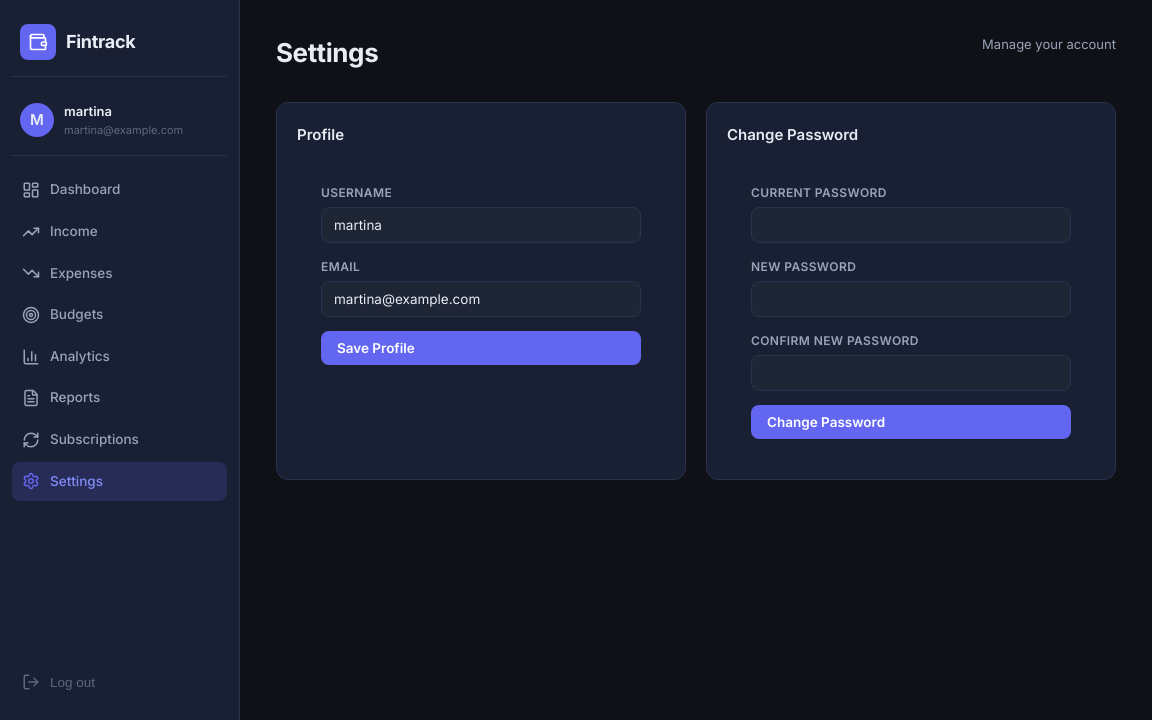
Test: password › catches mismatching passwords without contacting the server
The width and height of the screenshot is (1152, 720).
Check: the field below "Username" holds "martina", box [321,207,641,243]
In the password field below "Current Password": (911, 225) [751,207,1071,243], type "old-pw"
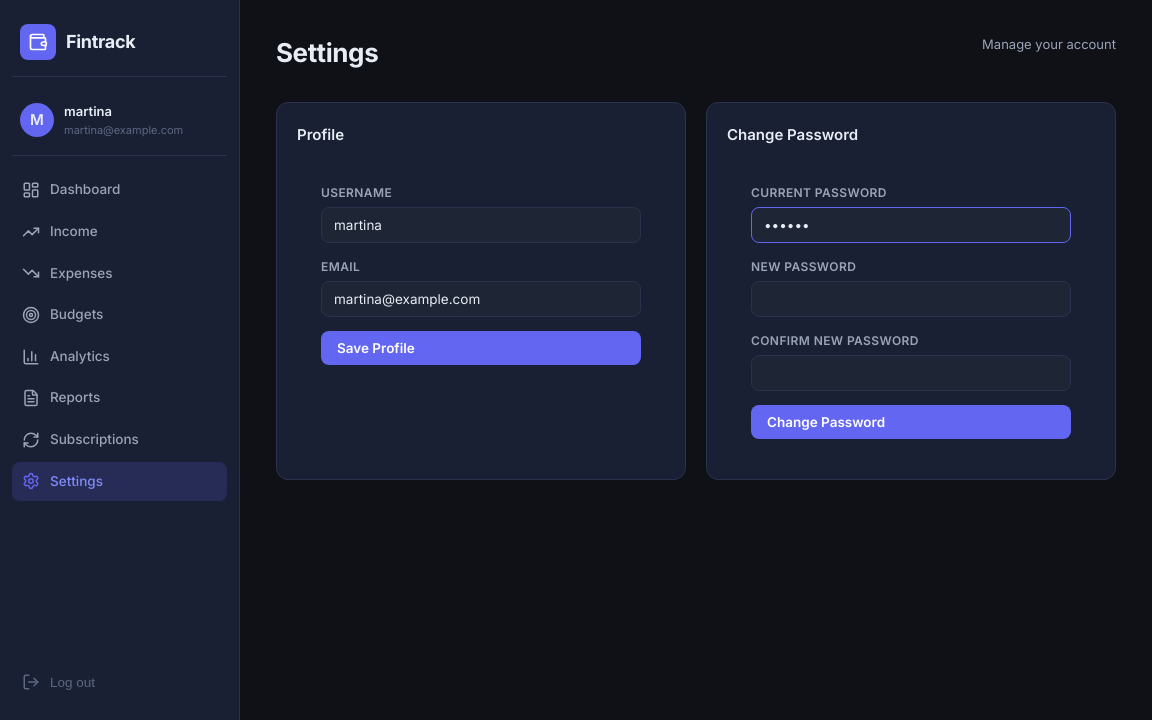
In the 2nd password field: (911, 299) [751,281,1071,317], type "new-pw-1"
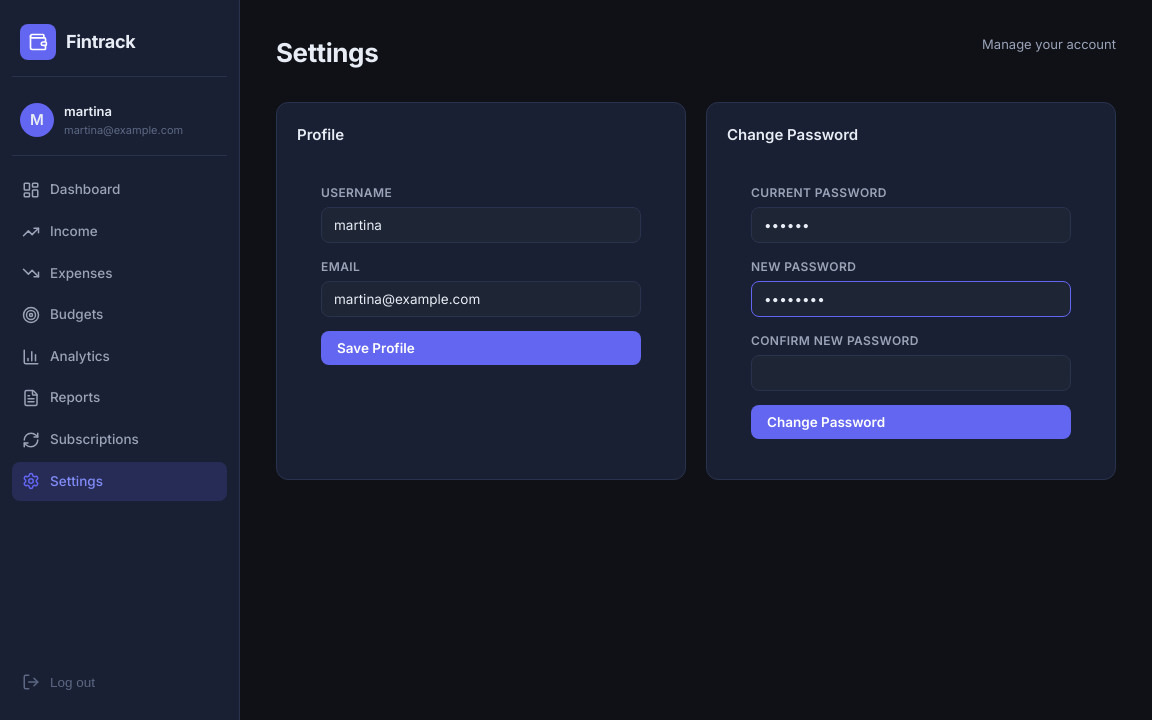
In the password field below "Confirm New Password": (911, 373) [751,355,1071,391], type "new-pw-2"
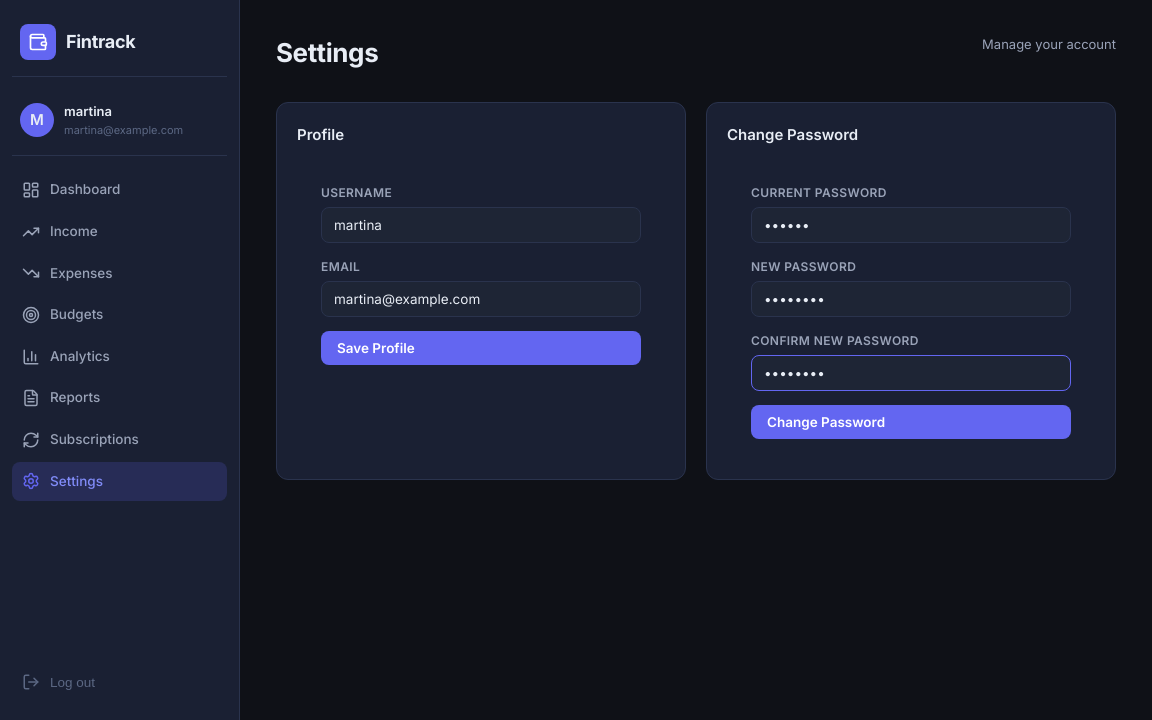
Click the button "Change Password": (826, 422) [751,405,1071,439]
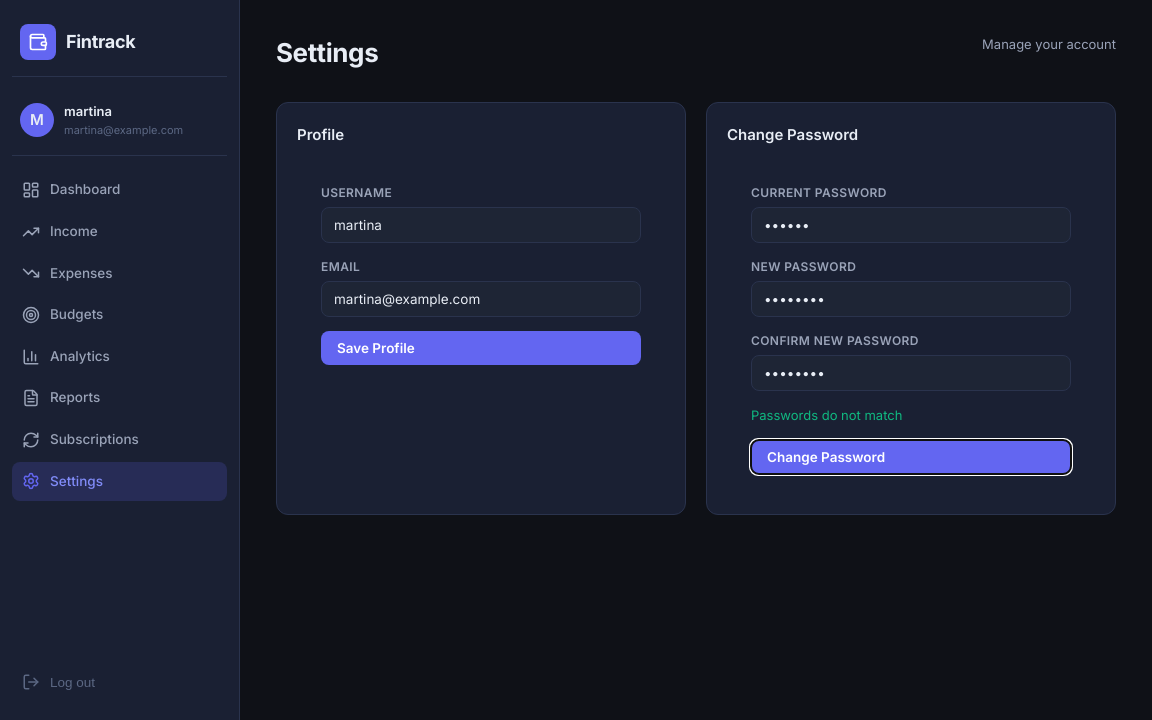
Check: the text "Passwords do not match" is shown, box [751,407,902,423]
